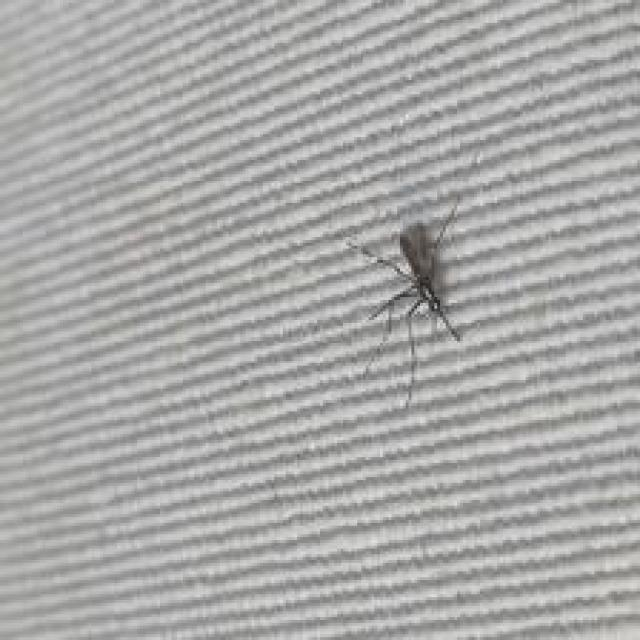Aedes albopictus: (343, 194, 466, 409)
